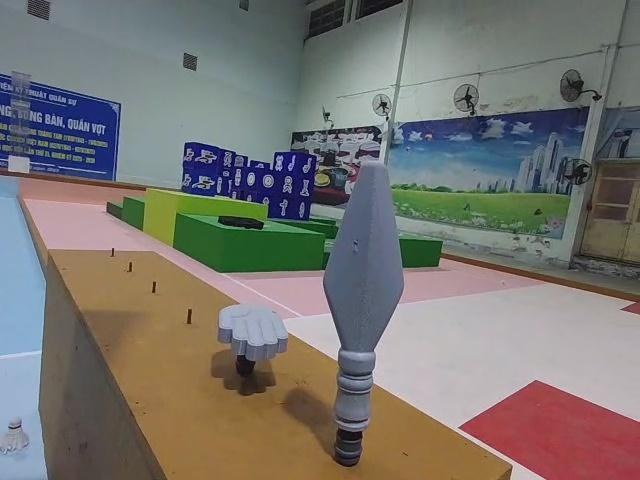Hand: (216, 302, 289, 374)
Sph: (321, 161, 405, 467)
